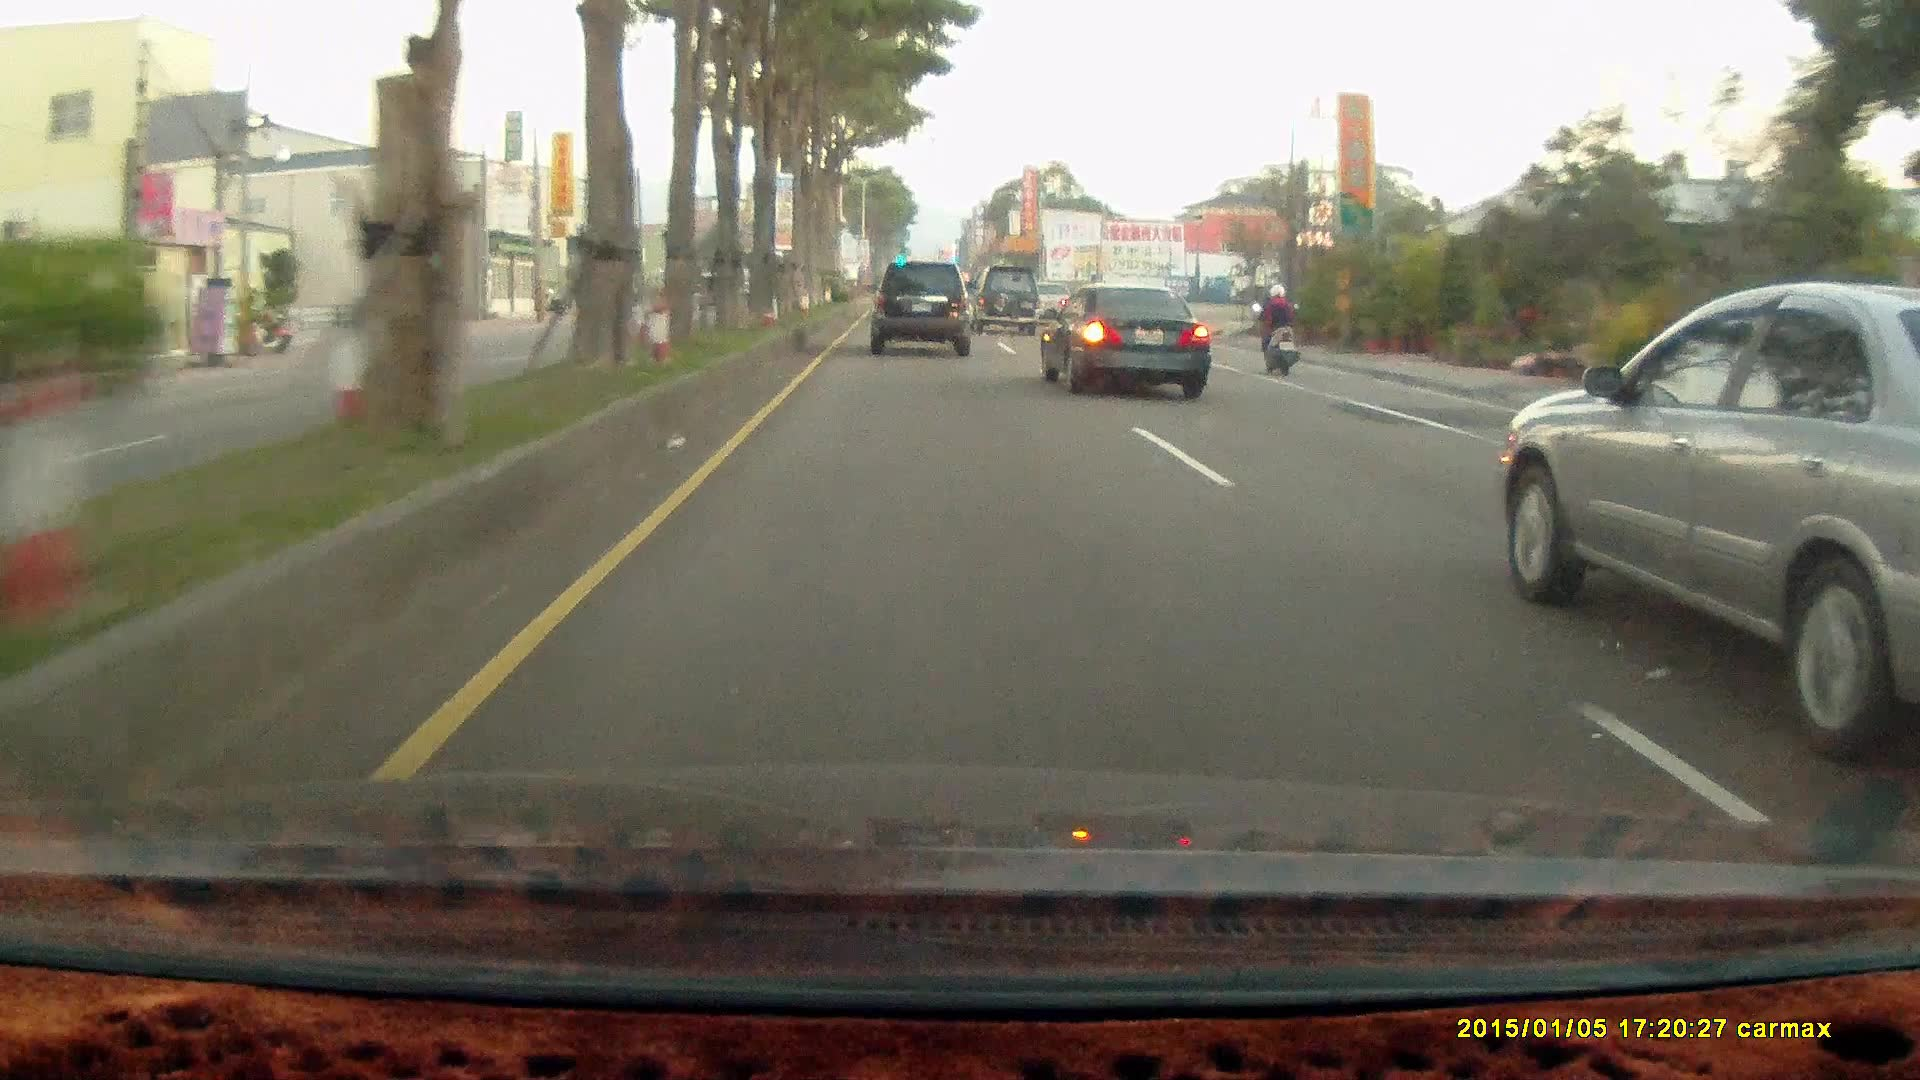rider: (1248, 273, 1310, 387), (1246, 280, 1299, 375)
vehicle: (1487, 291, 1919, 775), (1036, 289, 1214, 406), (1039, 282, 1210, 401), (865, 259, 969, 356), (869, 261, 973, 357), (967, 271, 1040, 344), (968, 262, 1041, 333)
